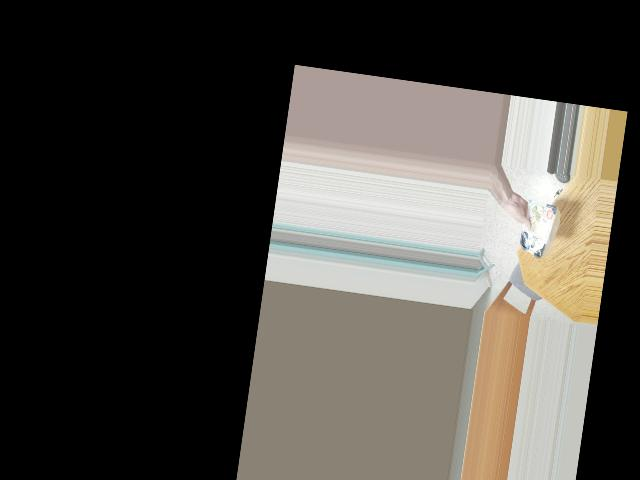cheese: (513, 200, 558, 256)
